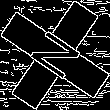N_SE: (23, 24, 87, 86)
